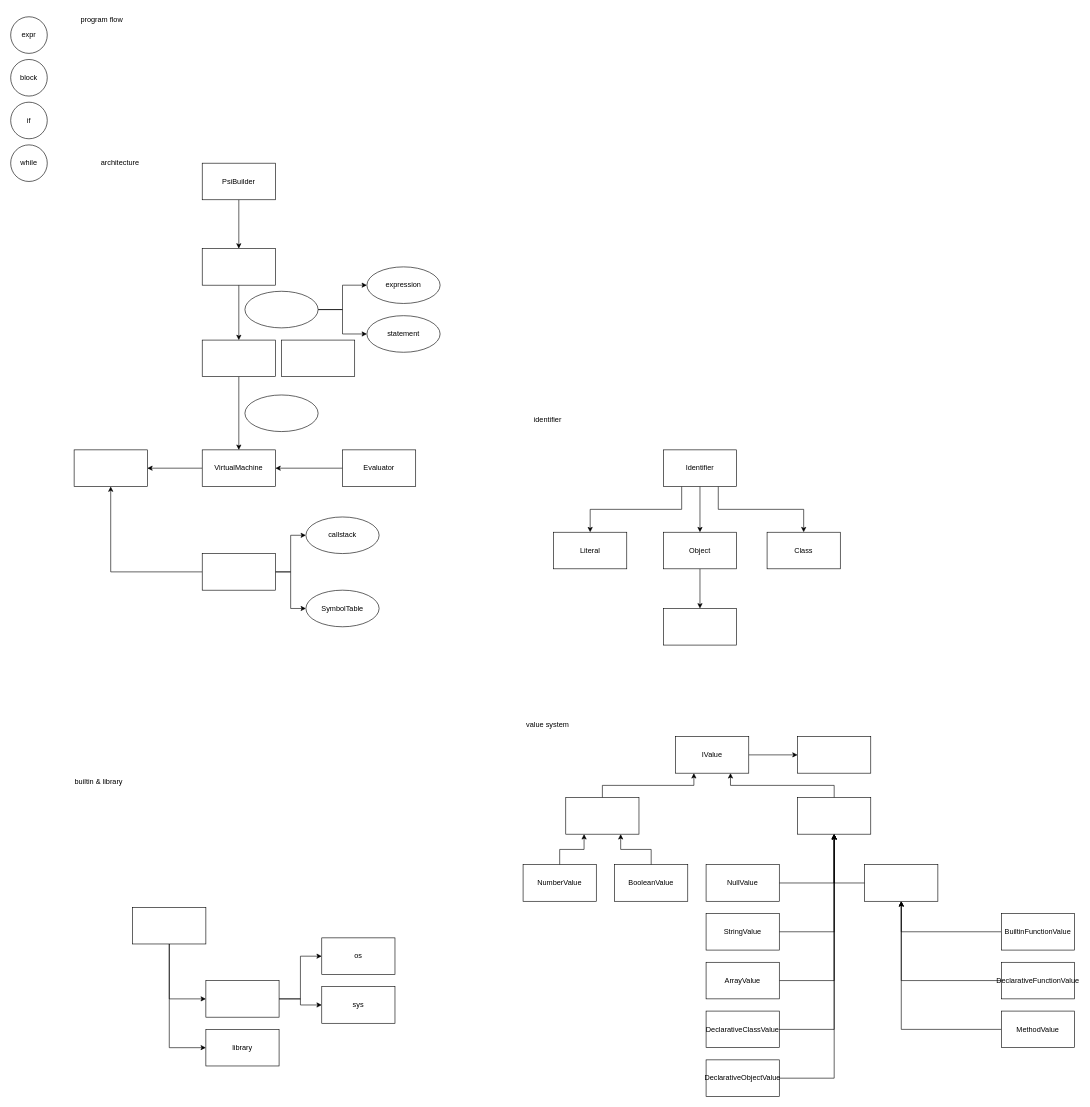
This 1090x1107 diagram has some shape labels left out. The shapes that lost their labels are listed below. From the top down, each one's centre as x and y in pixels, then its label:
At [238,266]: "PsiOptimizer".
At [281,309]: "psi".
At [238,358]: "BytecodeCompiler".
At [318,358]: "BytecodeGenerator".
At [281,413]: "bytecode".
At [110,467]: "MoonScriptEngine".
At [238,571]: "Runtime".
At [700,626]: "Function".
At [834,754]: "Ref".
At [602,815]: "BaseValue".
At [834,815]: "ObjectValue".
At [901,882]: "CallableValue".
At [169,925]: "extension".
At [242,998]: "builtin".
